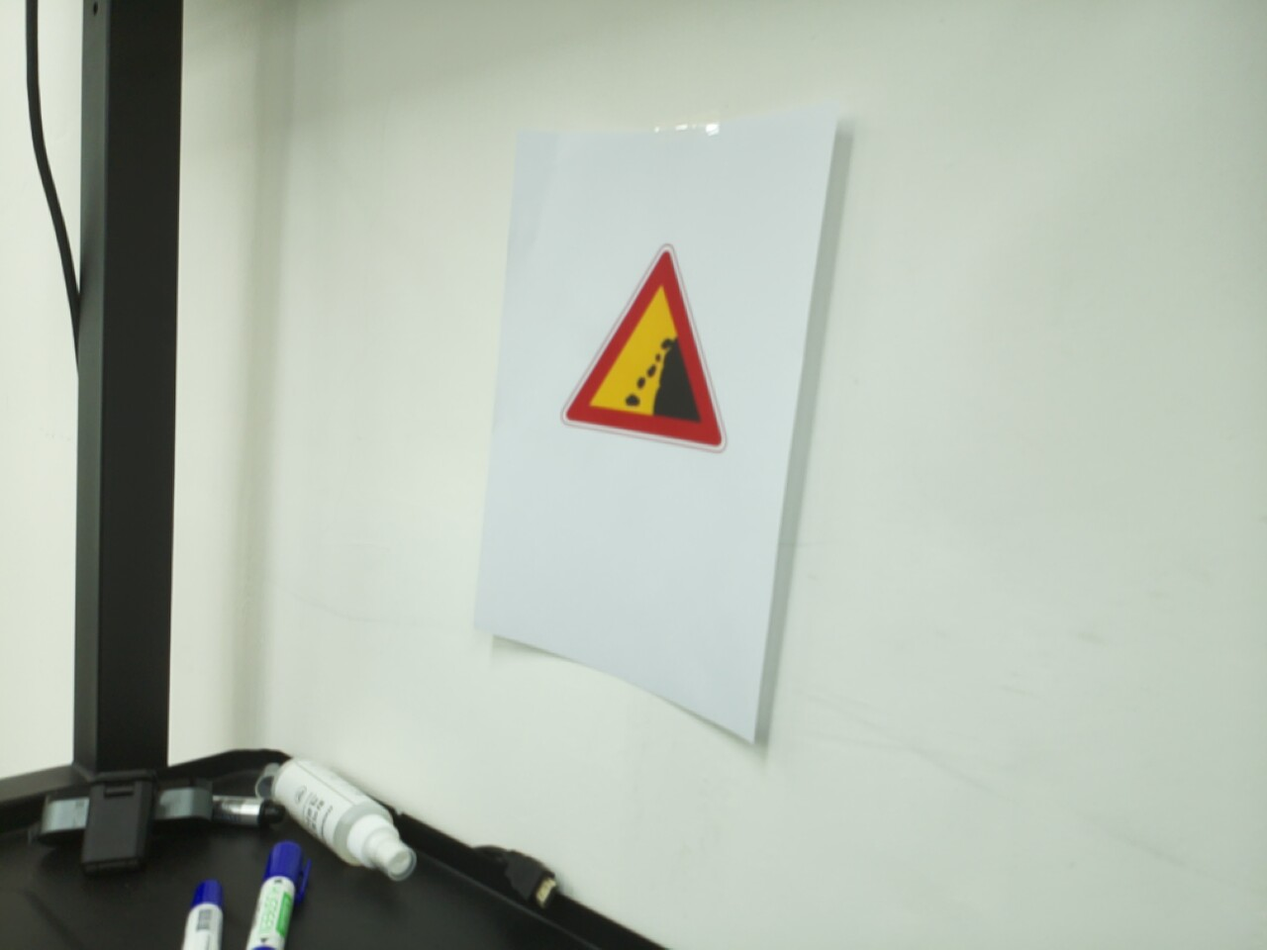falling_rocks: (559, 243, 729, 454)
